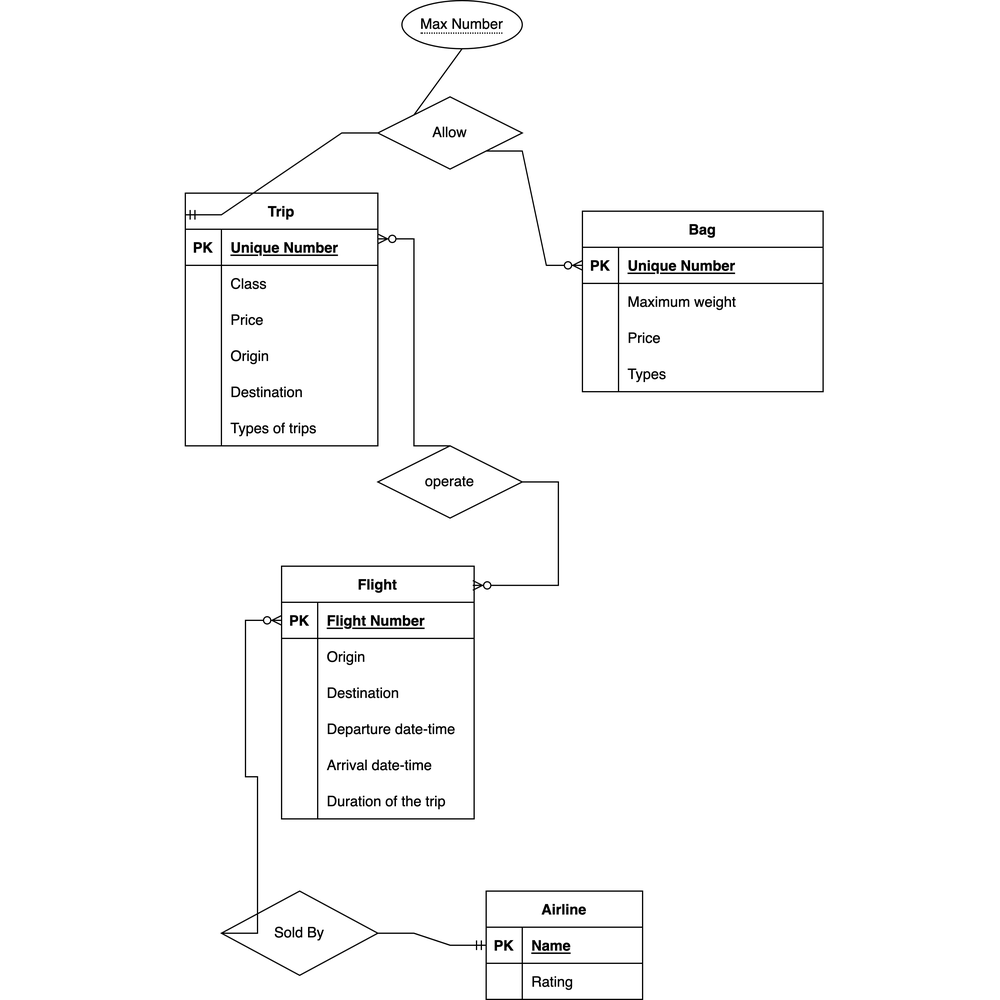attribute: (401, 1, 534, 53)
entity: (179, 184, 386, 458), (273, 556, 475, 828), (576, 205, 825, 396), (468, 886, 662, 999)
relationship: (217, 889, 384, 973), (383, 100, 526, 180), (370, 449, 523, 515)
